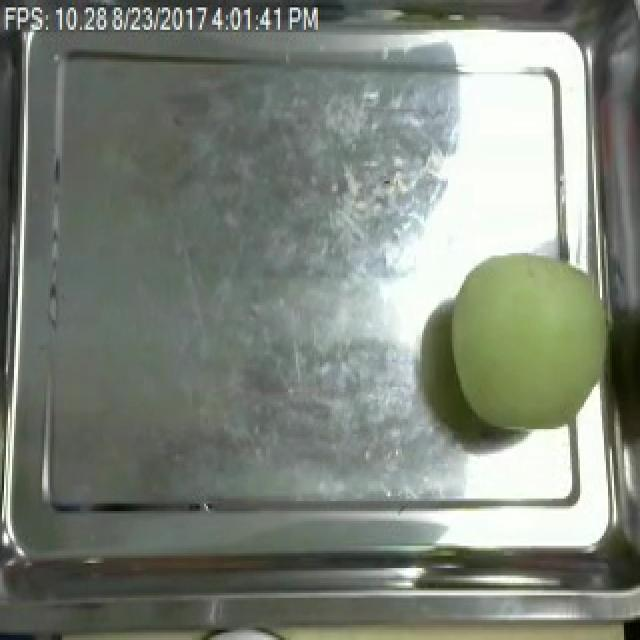50-_ripeness: (443, 246, 607, 439)
